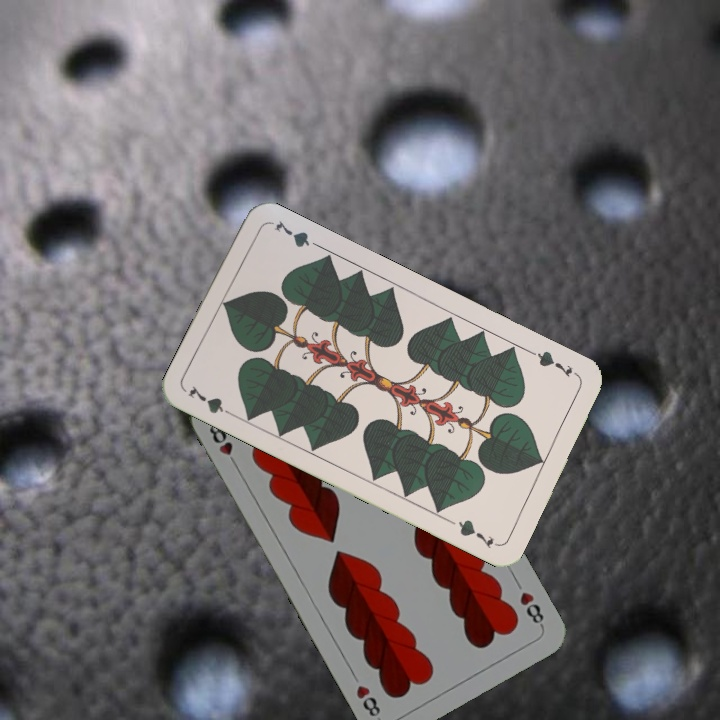G7: (184, 381, 239, 420), (527, 347, 575, 380)
H8: (205, 417, 241, 470), (515, 587, 547, 630)
